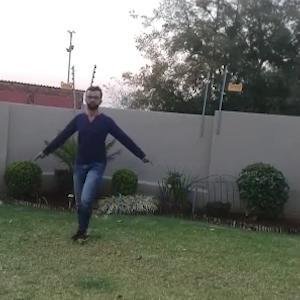land: (50, 93, 147, 221)
